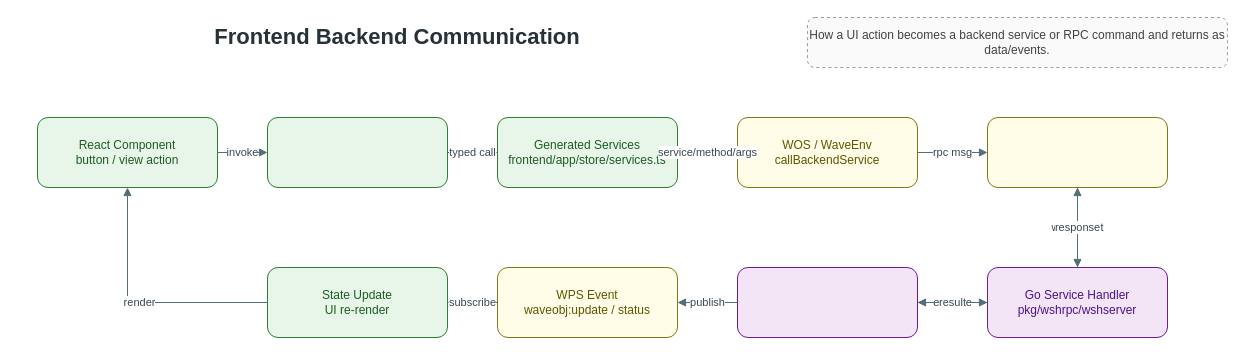
This 1245x355 diagram has some shape labels left out. The shapes that lost their labels are listed below. From the top down, each one's centre as x and y in pixels, then its label:
point 357,152: View Model / Store Jotai atoms
point 1077,152: WshRouter route + reqid
point 827,302: Domain Packages wcore / aisessions / remote
